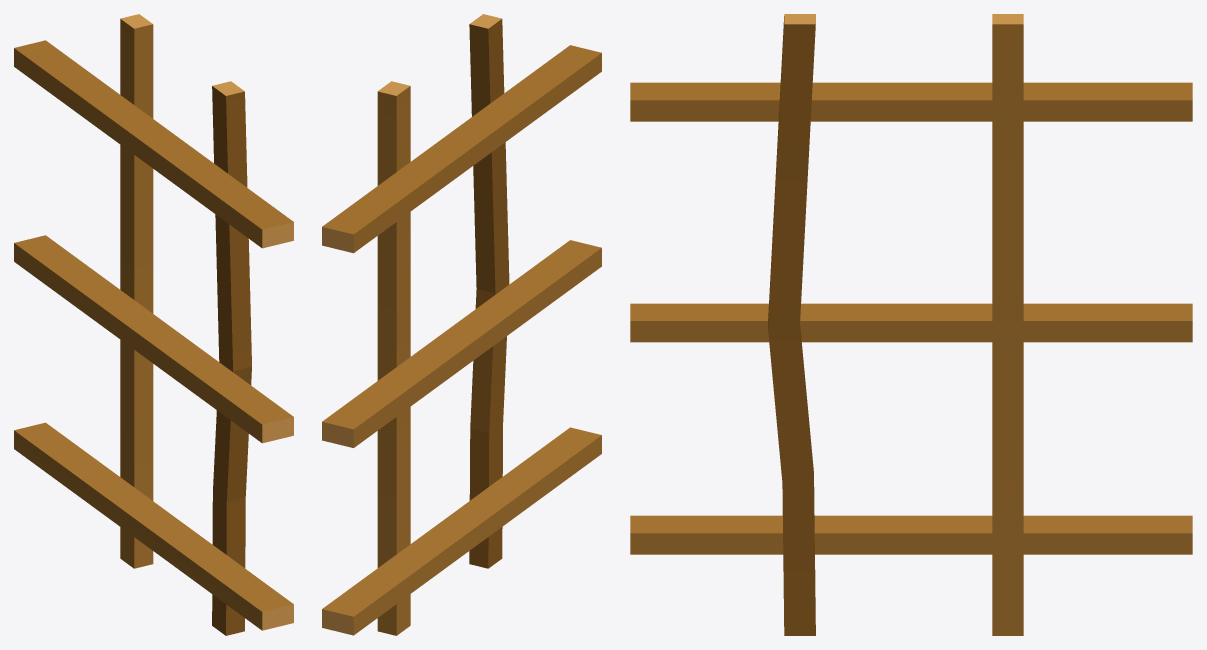
Rendered from WoodFrame_2_1.obj.
3 views of the same model, side by side, from view 1: azimuth 30°, elevation 25°; view 2: azimuth 150°, elevation 25°; view 3: azimuth 270°, elevation 25° (orthographic). The views are drawn at different scales.
Parts seen in each view (by area): view 1: WoodFrame_2_1; view 2: WoodFrame_2_1; view 3: WoodFrame_2_1.
Part boxes in pixels (left/top/right/bottom): WoodFrame_2_1: left=14, top=14, right=293, bottom=635; WoodFrame_2_1: left=322, top=14, right=601, bottom=635; WoodFrame_2_1: left=630, top=14, right=1192, bottom=635.
Bounding box in the file's own units: 0.2357 × 2.4 × 2.
